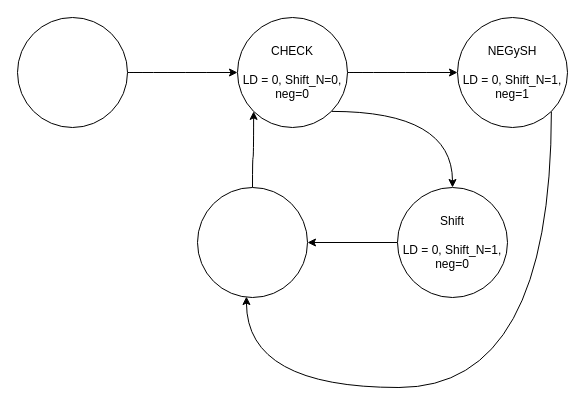
Image size: 585x405. Some labels were removed from this diagram. The box of each missing label's shape, as (x1, y1, x2, y2) in pixels:
END LD = 0, Shift_N=0, neg=0: (196, 186, 308, 298)
START LD = 1, Shift_N=0, neg=0: (16, 16, 128, 128)
